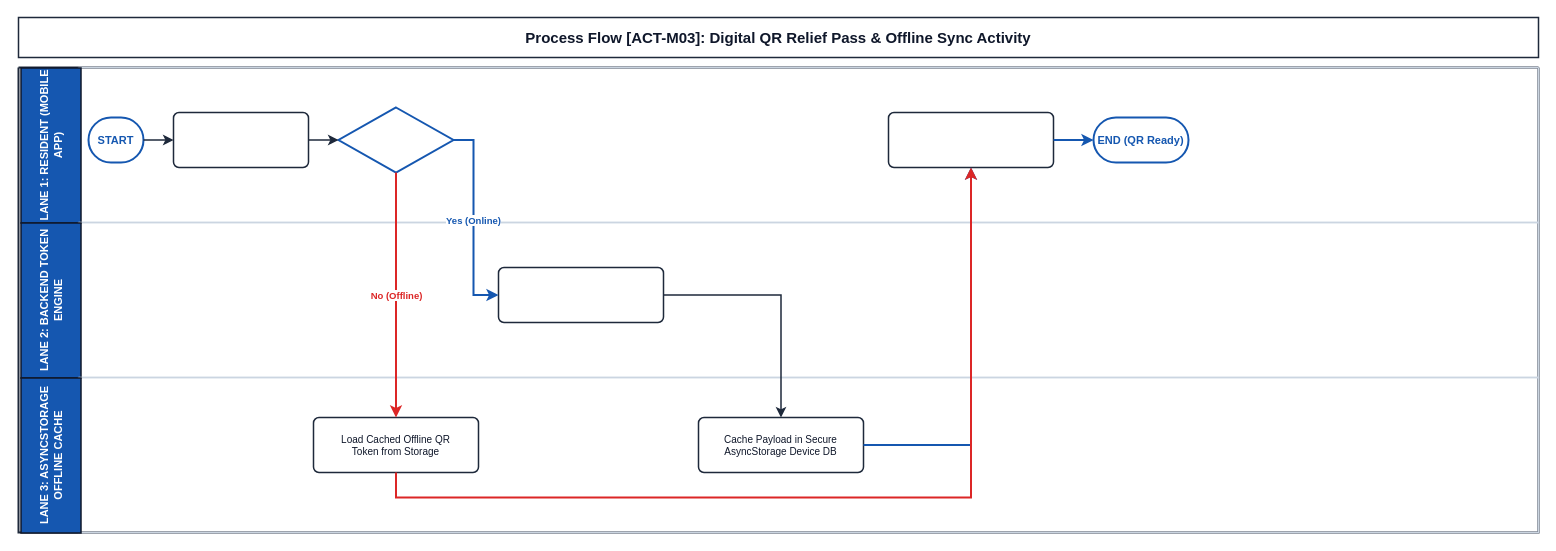
This 1556x551 diagram has some shape labels left out. Each missing label, with the centre of its shape:
"Fetch Encrypted QR Payload from Backend Server" belongs at (580,294).
"Online Network Available?" belongs at (395,139).
"Render High-Contrast SVG QR Relief Pass on Screen" belongs at (970,139).
"Tap QR Pass Tab on Home Screen" belongs at (240,139).
